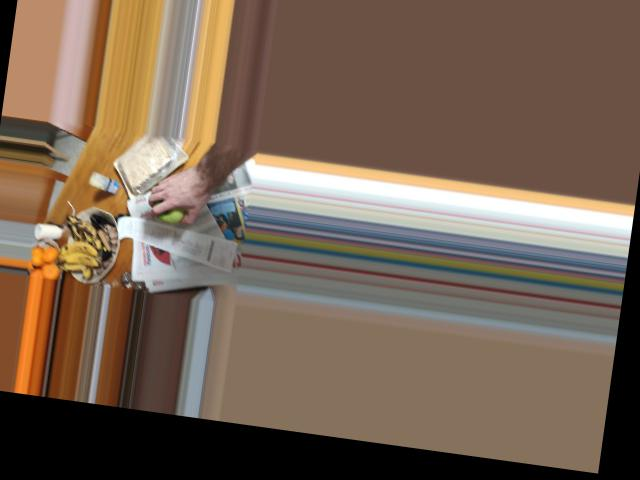apple: (151, 184, 194, 225)
